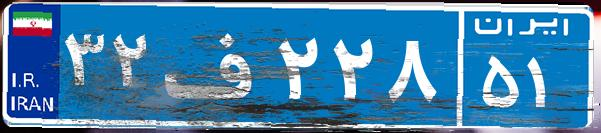1: (525, 38, 570, 115)
2: (273, 28, 330, 110), (330, 28, 385, 110), (110, 28, 158, 105)
3: (57, 26, 110, 107)
5: (475, 38, 525, 113)
8: (385, 28, 445, 110)
ف: (158, 15, 273, 115)
